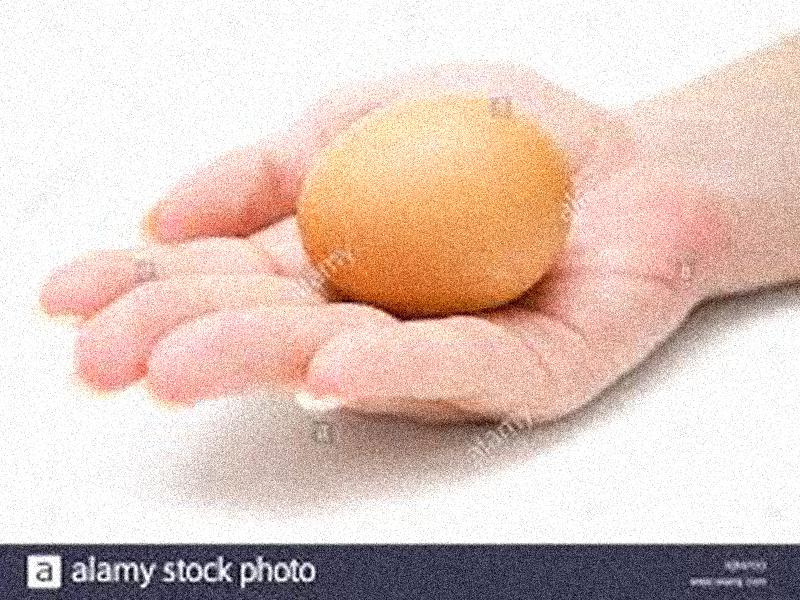Eggs: (299, 91, 574, 312)
